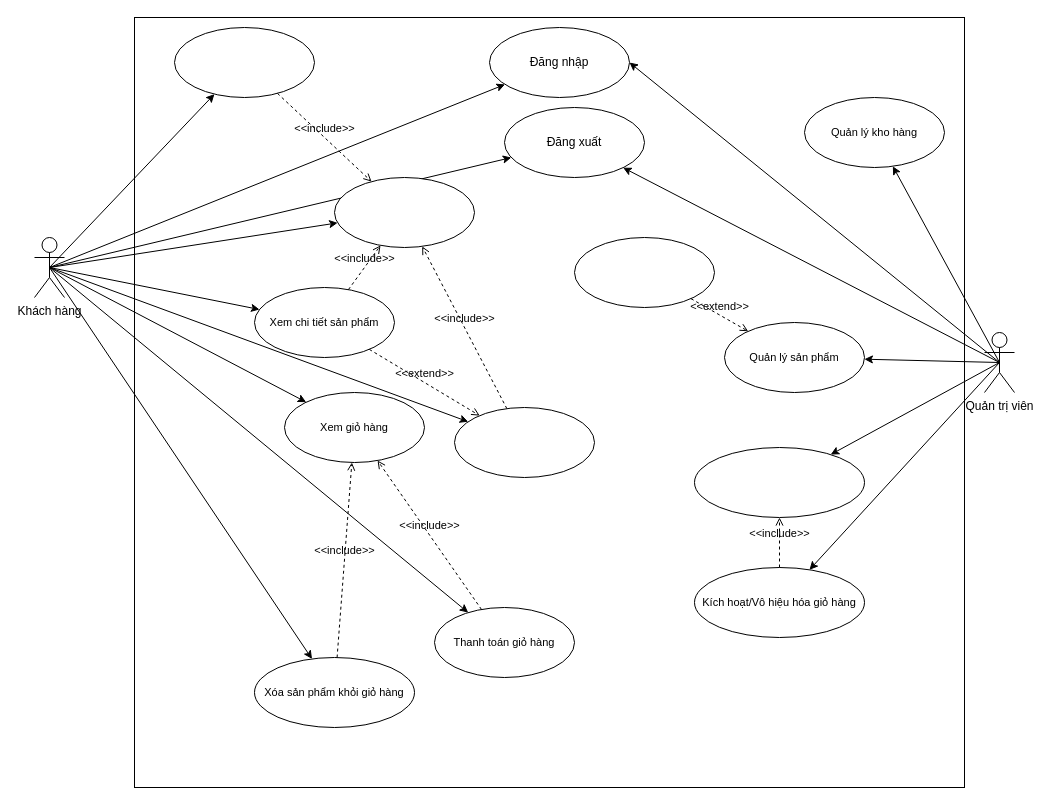
This 1050x805 diagram has some shape labels left out. The centre of each missing label's shape, as x and y in pixels:
Duyệt sản phẩm: pixel 404 212
Gán sản phẩm vào kho hiện có: pixel 644 272
Mua sản phẩm: pixel 524 442
Xem giỏ hàng của khách hàng: pixel 779 482
Đánh giá sản phẩm: pixel 244 62
